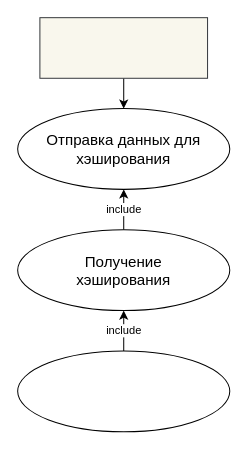
This 247x449 diagram has some shape labels left out. The shapes that lost their labels are listed below. From the top down, each one's centre as x and y in pixels, then its label:
At (123,47): "ПОЛЬЗОВАТЕЛЬ".
At (123,391): "Логирование результата".
